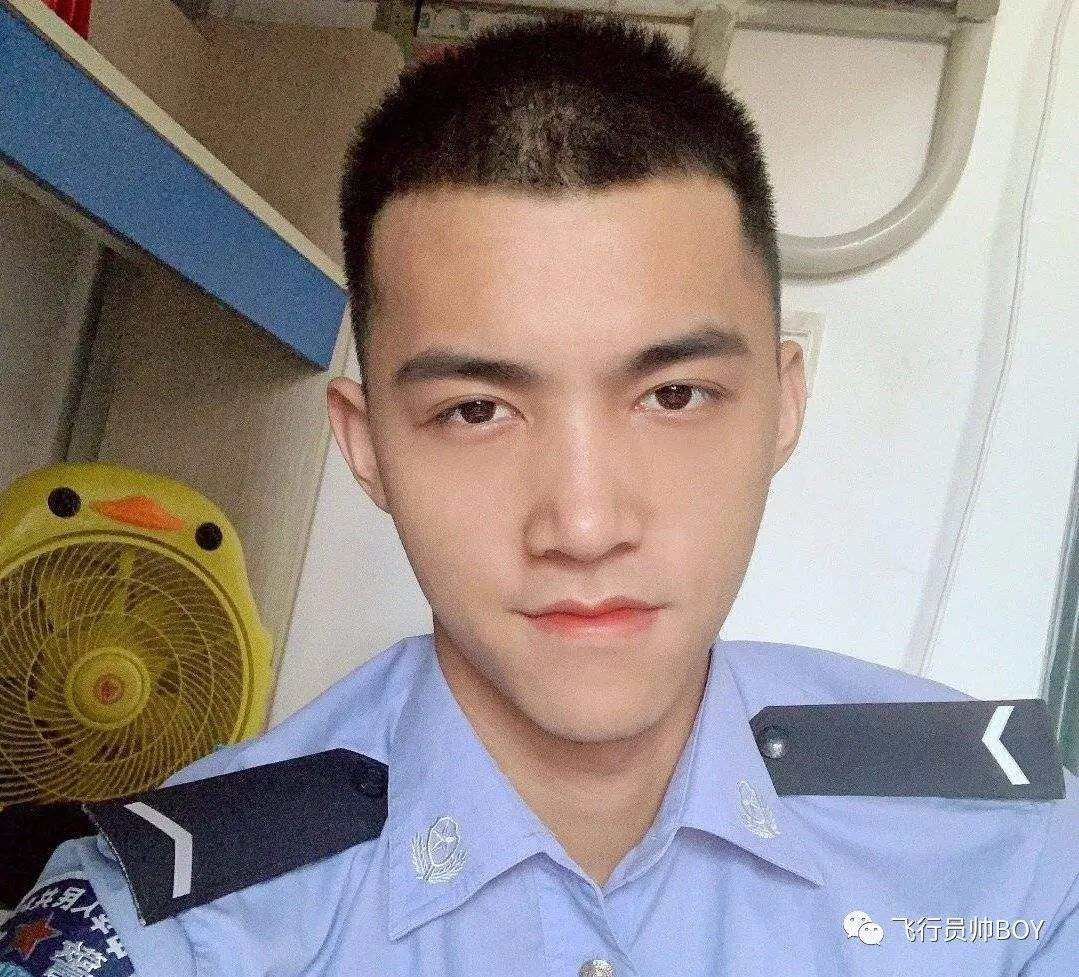person: (322, 40, 844, 834)
